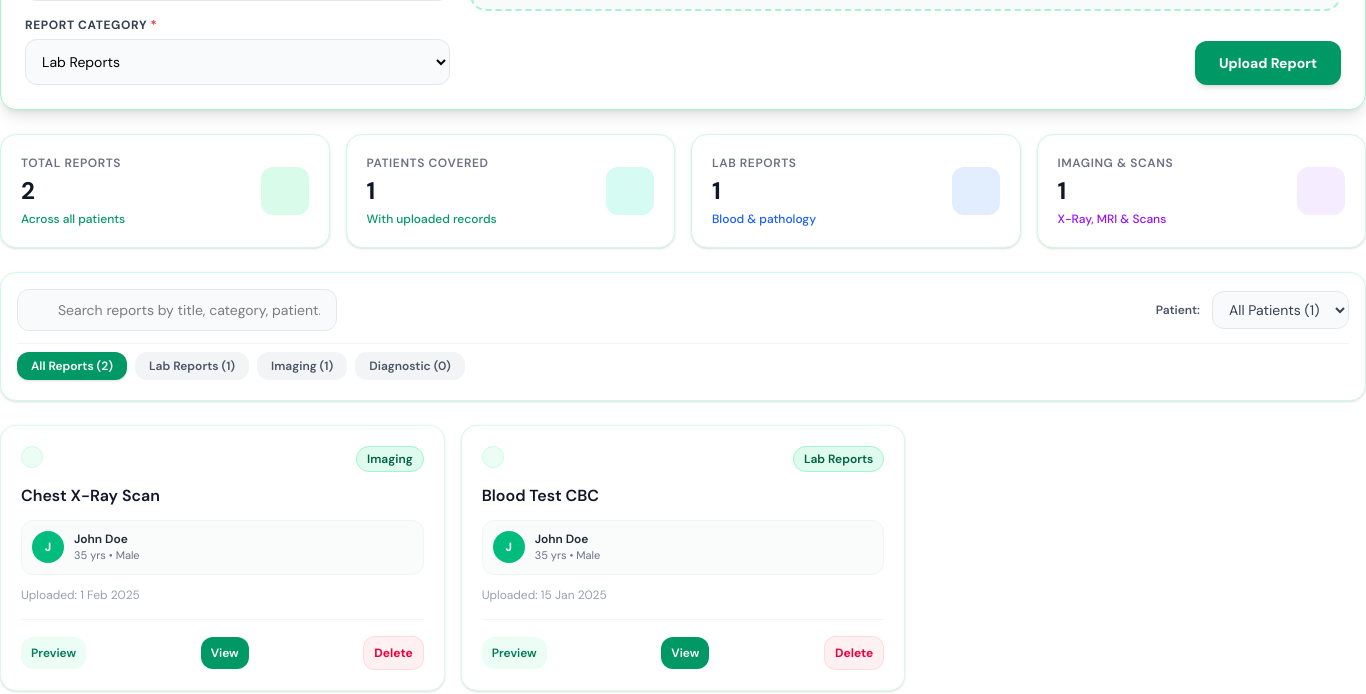
Test: ReportsTab Component › filters reports by search query input
(page scrolled)
Check: the heading "Blood Test CBC" is shown, box [482, 485, 599, 506]
In the field with placeholder "Search reports by title, category, patient...": (177, 310) [17, 289, 337, 331], type "CBC"
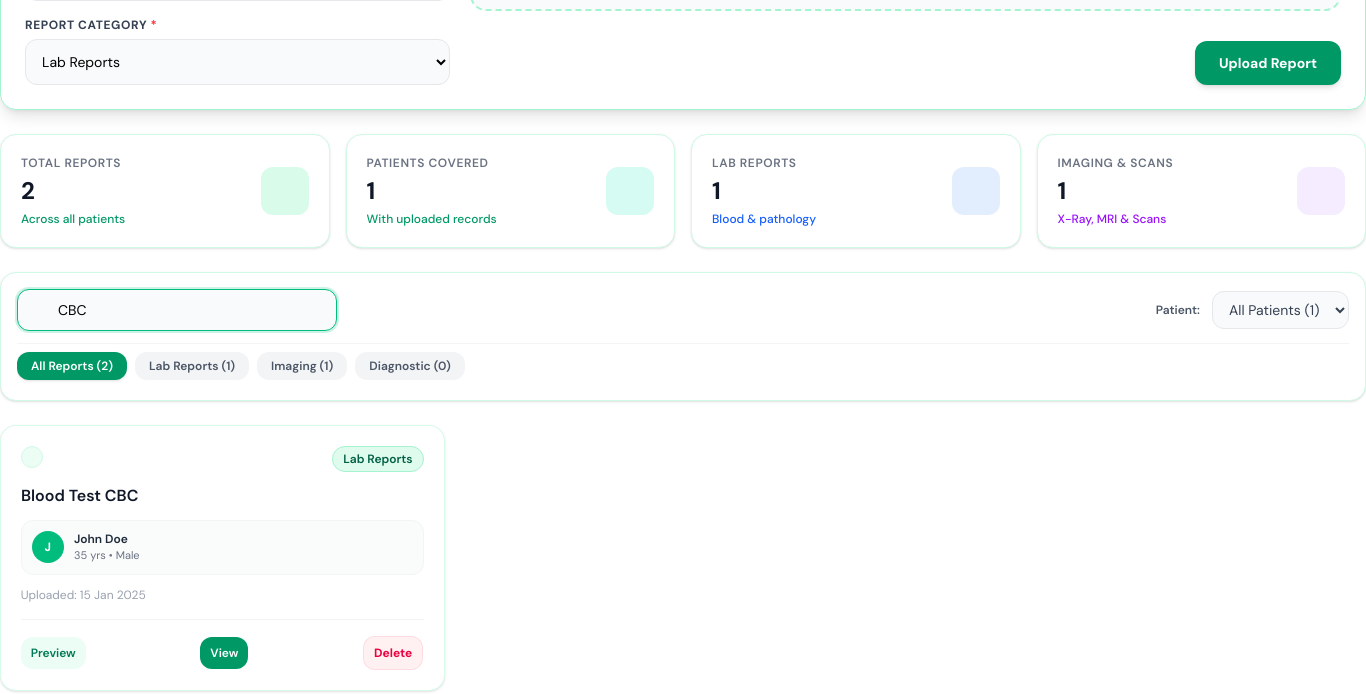
Check: the heading "Blood Test CBC" is shown, box [21, 485, 138, 506]
Check: the heading "Chest X-Ray Scan" is gone
